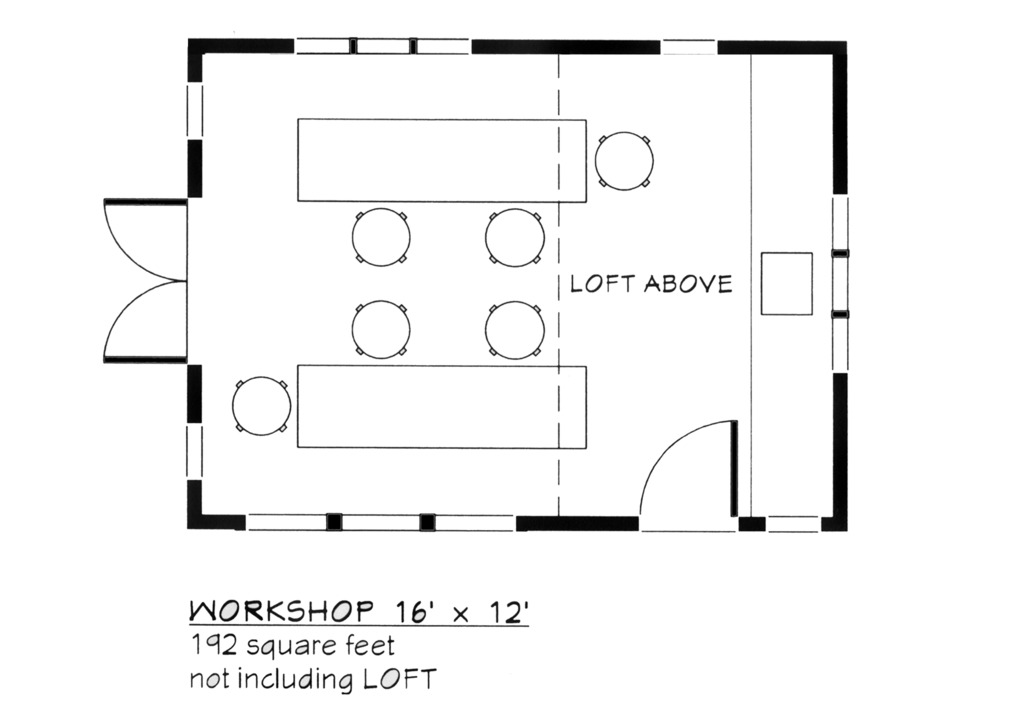door: (97, 203, 188, 367), (636, 417, 738, 531)
round_table: (229, 358, 295, 440), (474, 298, 550, 365), (342, 300, 423, 361), (472, 206, 548, 270), (590, 123, 657, 193), (349, 205, 417, 270)
window: (240, 512, 513, 530), (827, 199, 852, 370), (286, 35, 469, 54)
